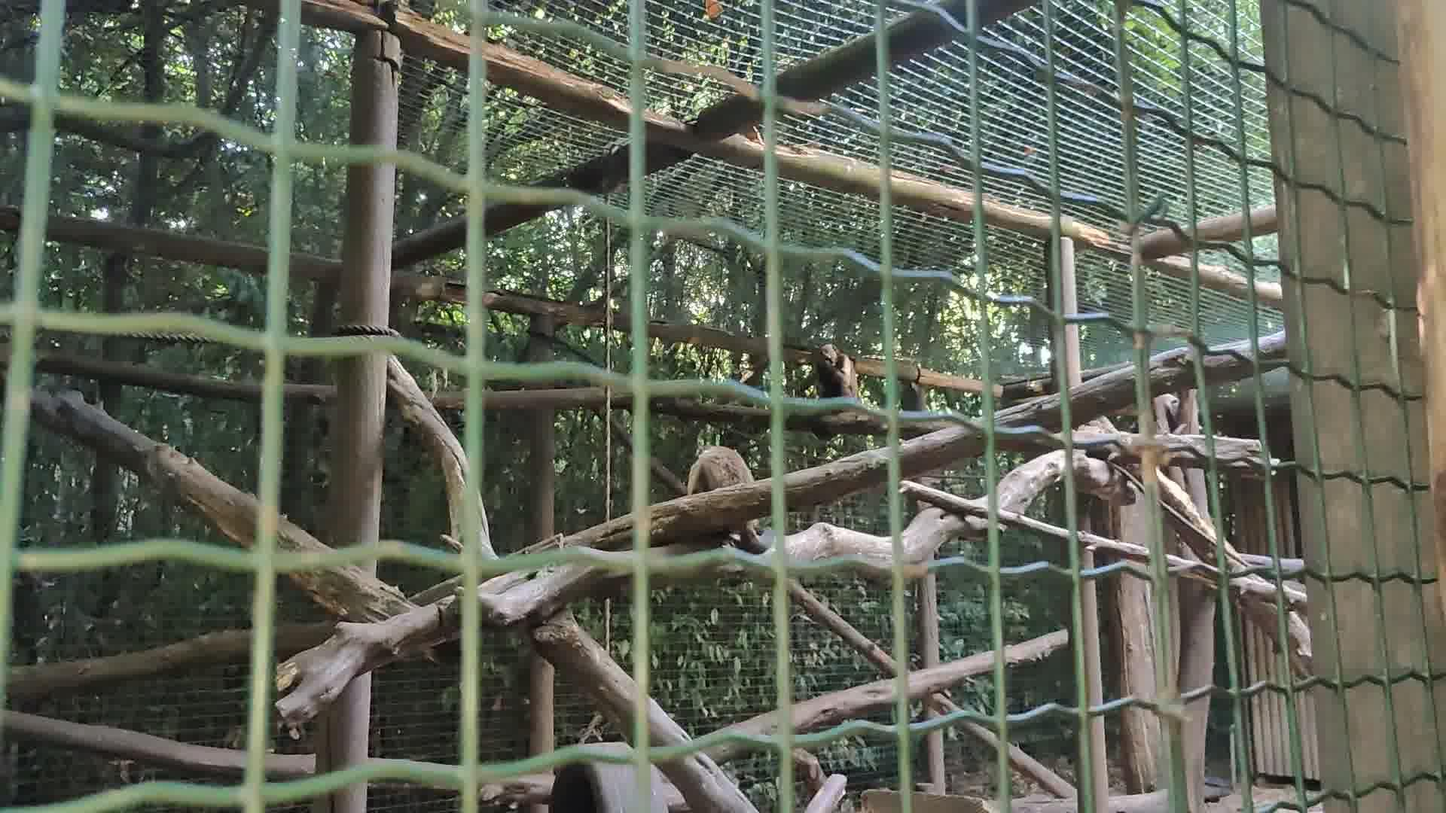boar: (687, 445, 773, 555), (814, 343, 857, 415)
